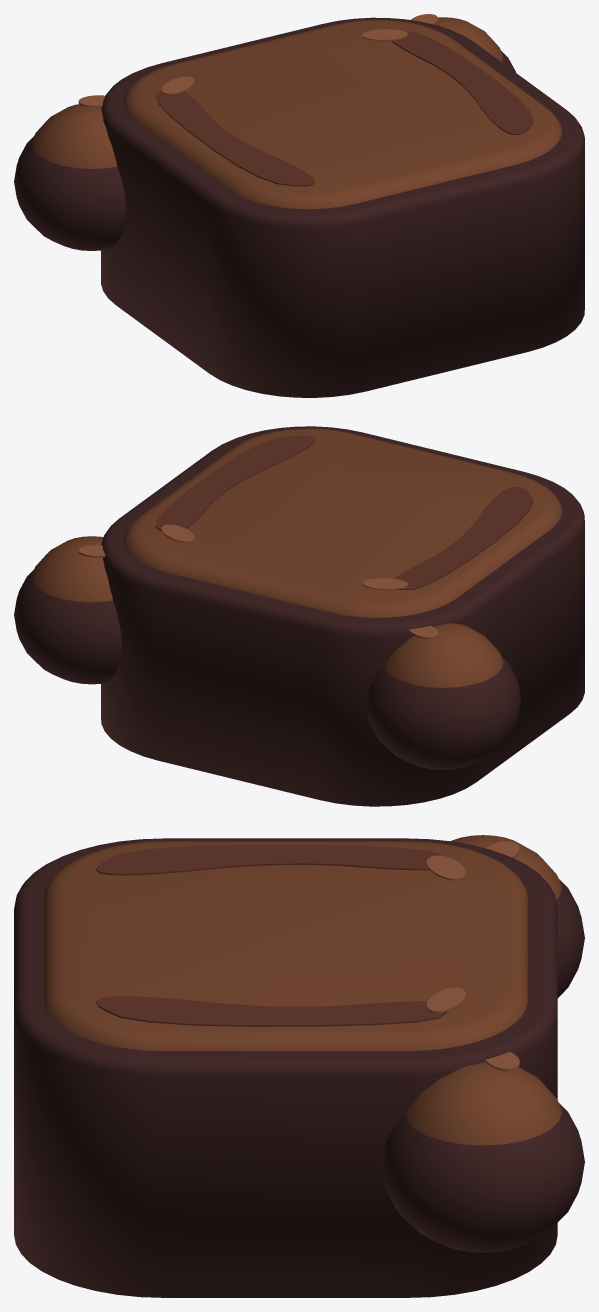
File: body_basico_castanho.fbx
3 renders of one model, top to bottom at view 1: azimuth 30°, elevation 25°; view 2: azimuth 150°, elevation 25°; view 3: azimuth 270°, elevation 25°, orthographic. The views are drawn at different scales.
Visible parts, largest first — view 1: body_basico_castanho_corpo, body_basico_castanho_mao_esq, body_basico_castanho_mao; view 2: body_basico_castanho_corpo, body_basico_castanho_mao_esq, body_basico_castanho_mao; view 3: body_basico_castanho_corpo, body_basico_castanho_mao, body_basico_castanho_mao_esq.
Part boxes in pixels (x1,y1,x2,y2): body_basico_castanho_corpo: (101, 17, 584, 397); body_basico_castanho_mao_esq: (14, 95, 125, 250); body_basico_castanho_mao: (411, 14, 515, 72); body_basico_castanho_corpo: (101, 426, 584, 806); body_basico_castanho_mao_esq: (366, 623, 520, 769); body_basico_castanho_mao: (14, 536, 121, 684); body_basico_castanho_corpo: (14, 838, 557, 1297); body_basico_castanho_mao: (382, 1052, 584, 1252); body_basico_castanho_mao_esq: (451, 835, 584, 997).
Bounding box in the file's own units: 5.4 × 2.03 × 4.2.
Materials: 1 (1 with a texture image).
